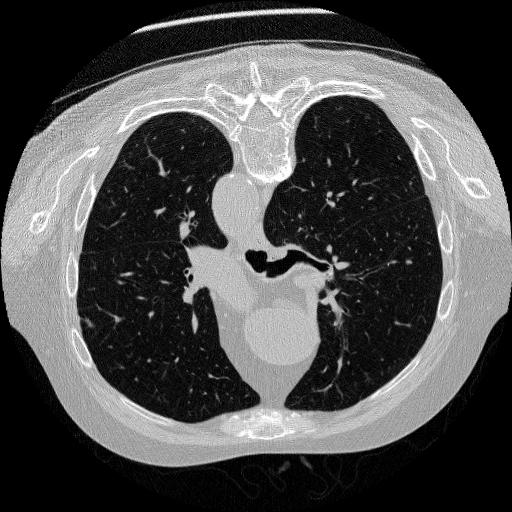nodule: (405, 258, 417, 270)
